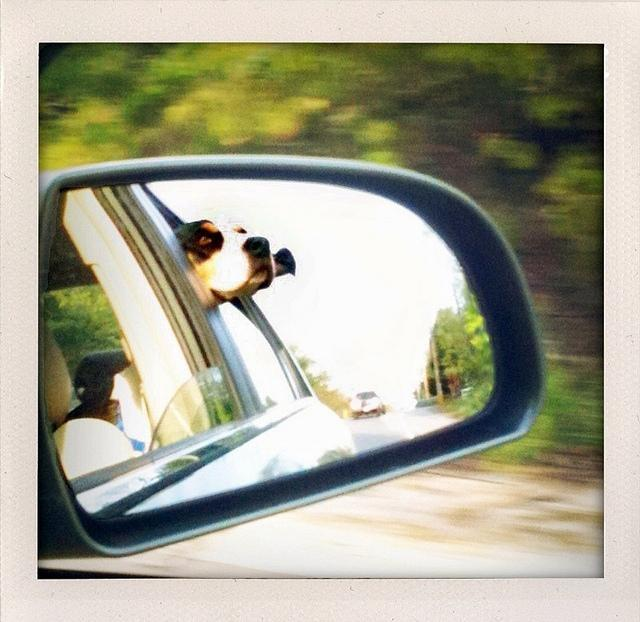car: (34, 183, 366, 515), (350, 392, 386, 420)
